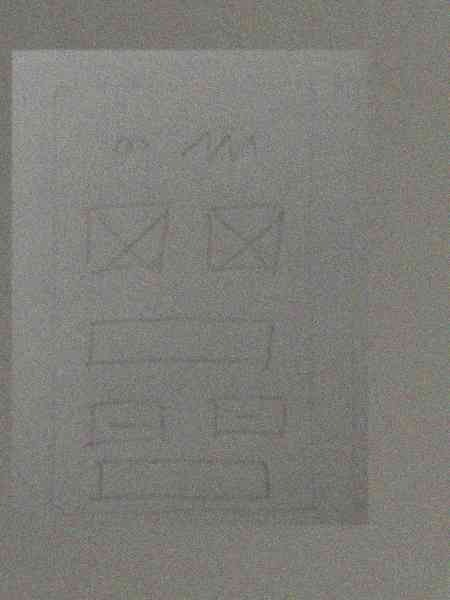button: (203, 388, 292, 446), (81, 395, 172, 449)
image: (75, 198, 181, 278), (201, 198, 289, 284)
switch: (102, 126, 164, 165)
text: (177, 126, 267, 171)
text_input: (77, 313, 282, 375), (86, 455, 279, 506)
